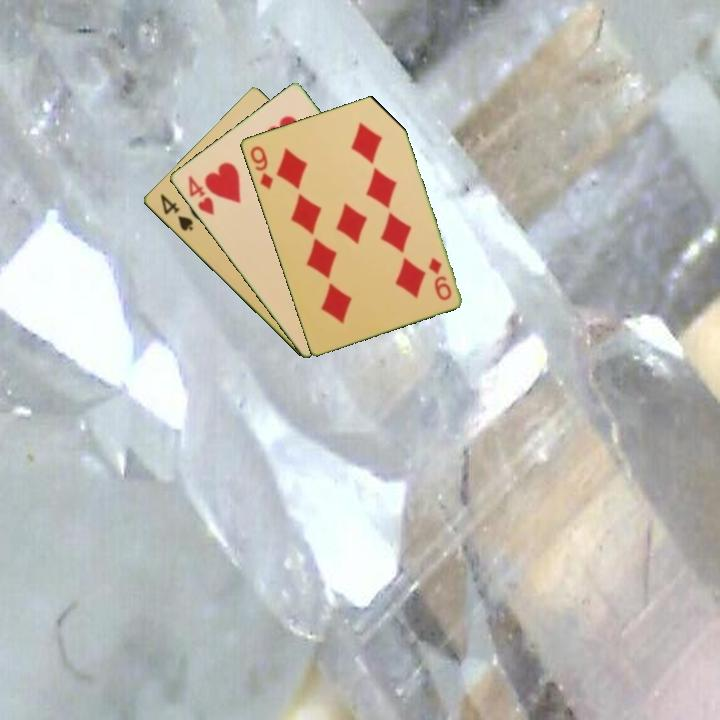4h: (184, 172, 217, 218)
4s: (156, 190, 196, 234)
9d: (246, 142, 276, 193), (424, 253, 454, 303)
